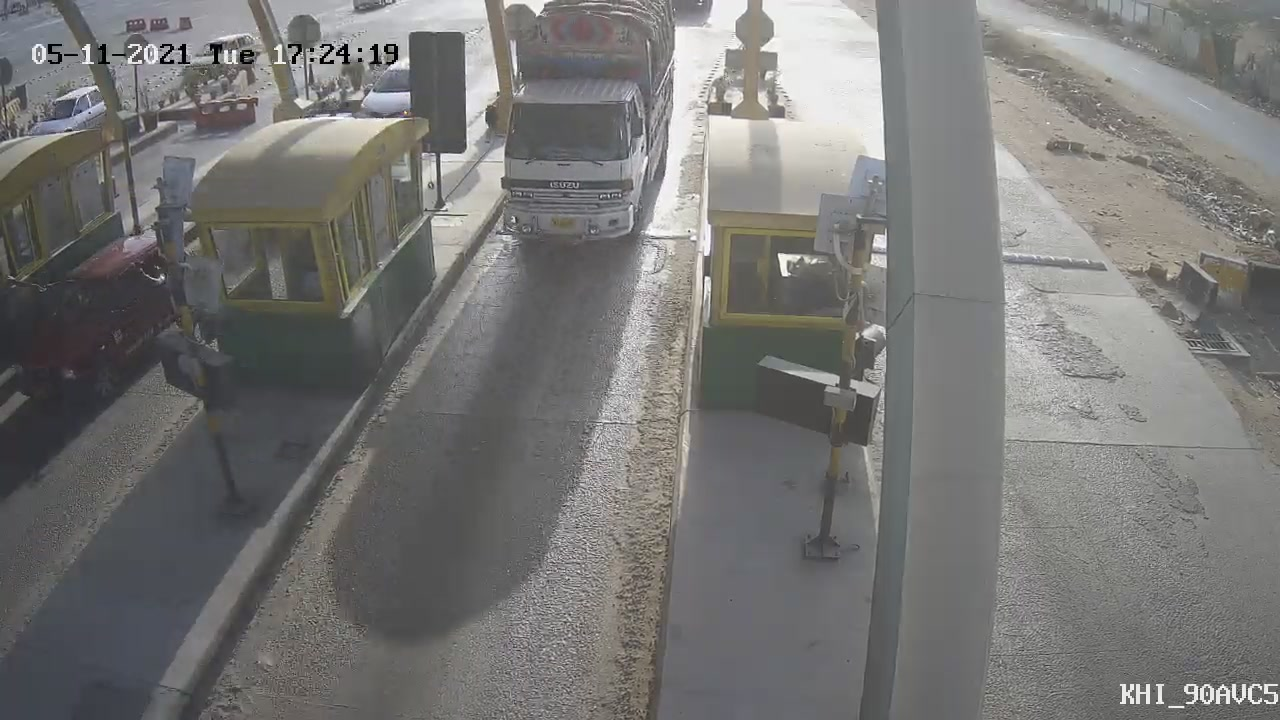F5: (481, 1, 690, 272)
